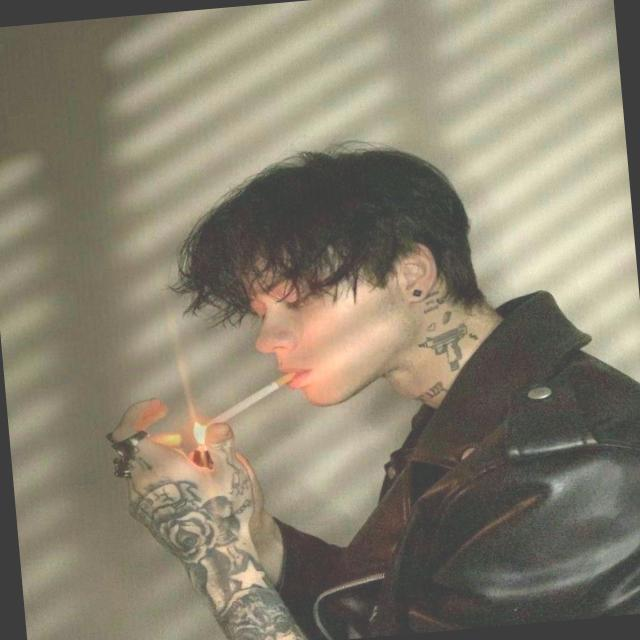cigarette: (203, 360, 309, 426)
